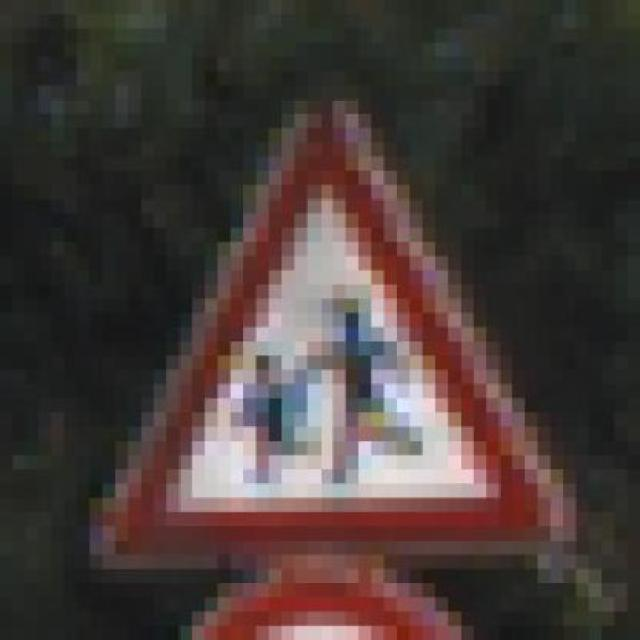Beware of children: (84, 85, 584, 569)
